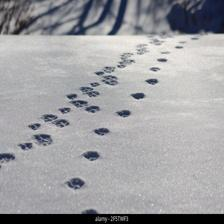fox: (63, 176, 86, 191)
